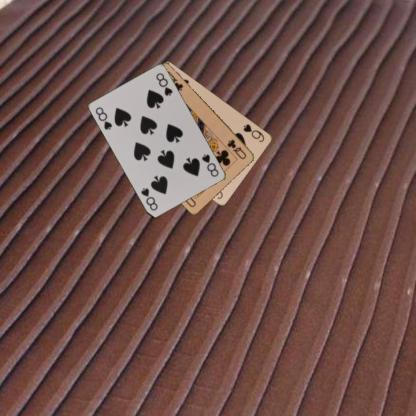6s: (241, 121, 266, 144)
8s: (199, 151, 220, 178), (93, 105, 114, 131)
Qc: (225, 137, 248, 161)
